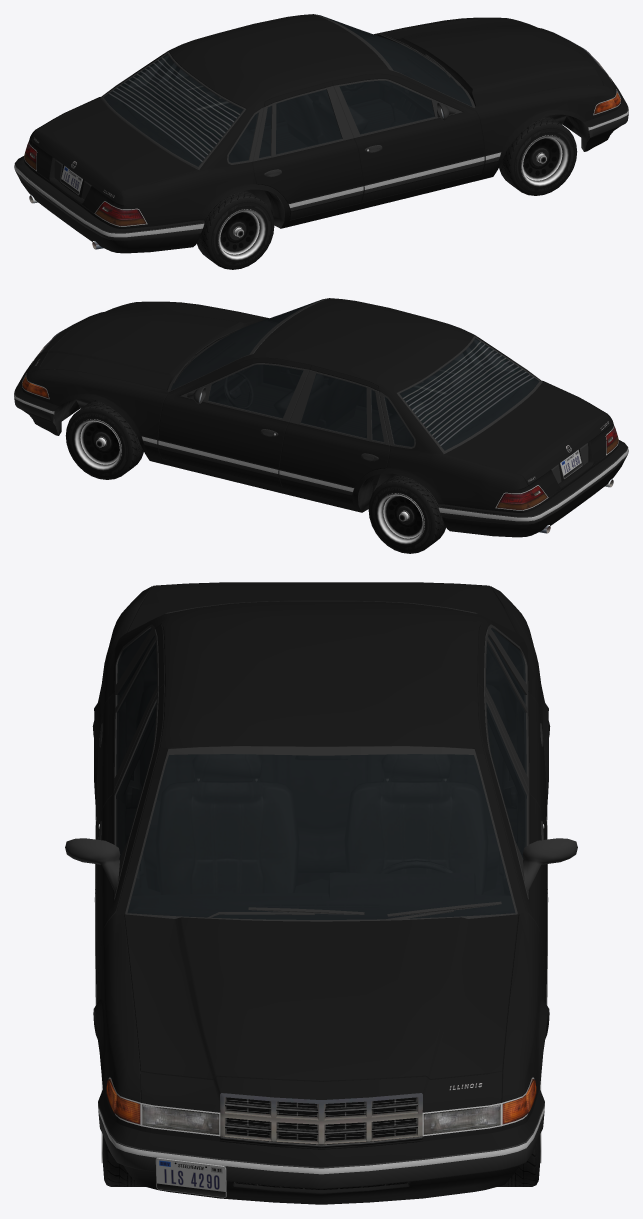
The picture shows the model from 3 angles, top to bottom: view 1: azimuth 30°, elevation 25°; view 2: azimuth 150°, elevation 25°; view 3: azimuth 270°, elevation 25°; orthographic projection. The views are drawn at different scales.
Visible parts, largest first — view 1: Illinois90_Body_Illinois90_Bodymat_0, Illinois90_Interior_UCB_Interiors_2_0, Illinois90_Hood_Illinois90_Bodymat_0, Illinois90_Trunkdoor_Illinois90_Bodymat_0, Illinois90_Bottom_UCB_BOTTOM_0, Illinois90_Rear_Glass_UCB_Lights_and_Glass_Transperent_0, Illinois90_Body_Glass_UCB_Lights_and_Glass_Transperent_0, Illinois90_WheelStock_RR_RB1c_Tire_1k_0, Illinois90_WheelStock_FR_RB1c_Tire_1k_0, Illinois90_Glass_Passenger_UCB_Lights_and_Glass_Transperent_, Illinois90_Bumper_rear_Illinois90_Bodymat_0, Illinois90_Windshield_UCB_Lights_and_Glass_Transperent_0 (+7 smaller); view 2: Illinois90_Body_Illinois90_Bodymat_0, Illinois90_Interior_UCB_Interiors_2_0, Illinois90_Hood_Illinois90_Bodymat_0, Illinois90_Trunkdoor_Illinois90_Bodymat_0, Illinois90_Bottom_UCB_BOTTOM_0, Illinois90_Rear_Glass_UCB_Lights_and_Glass_Transperent_0, Illinois90_Body_Glass_UCB_Lights_and_Glass_Transperent_0, Illinois90_WheelStock_RL_RB1c_Tire_1k_0, Illinois90_WheelStock_FL_RB1c_Tire_1k_0, Illinois90_glass_Driver_UCB_Lights_and_Glass_Transperent_0, Illinois90_Bumper_rear_Illinois90_Bodymat_0, Illinois90_Windshield_UCB_Lights_and_Glass_Transperent_0 (+7 smaller); view 3: Illinois90_Body_Illinois90_Bodymat_0, Illinois90_Interior_UCB_Interiors_2_0, Illinois90_Hood_Illinois90_Bodymat_0, Illinois90_Windshield_UCB_Lights_and_Glass_Transperent_0, Illinois90_Bottom_UCB_BOTTOM_0, Illinois90_Bumper_front_Illinois90_Bodymat_0, Illinois90_Bumper_front_inner_UCB_BOTTOM_0, Illinois90_Trunkdoor_Illinois90_Bodymat_0, Illinois90_Body_Glass_UCB_Lights_and_Glass_Transperent_0, Illinois90_Headlights_Glass_UCB_Lights_and_Glass_Transperent, Illinois90_Headlights_UCB_Lights_and_Glass_0, Illinois90_glass_Driver_UCB_Lights_and_Glass_Transperent_0 (+5 smaller).
Boxes of the visible parts, x1,y1,x2,y2 form: Illinois90_Body_Illinois90_Bodymat_0: (24, 14, 621, 228); Illinois90_Interior_UCB_Interiors_2_0: (104, 19, 471, 201); Illinois90_Hood_Illinois90_Bodymat_0: (377, 18, 603, 106); Illinois90_Trunkdoor_Illinois90_Bodymat_0: (32, 98, 197, 213); Illinois90_Bottom_UCB_BOTTOM_0: (24, 14, 620, 249); Illinois90_Rear_Glass_UCB_Lights_and_Glass_Transperent_0: (103, 54, 243, 166); Illinois90_Body_Glass_UCB_Lights_and_Glass_Transperent_0: (129, 56, 342, 162); Illinois90_WheelStock_RR_RB1c_Tire_1k_0: (197, 190, 274, 269); Illinois90_WheelStock_FR_RB1c_Tire_1k_0: (499, 116, 577, 195); Illinois90_Glass_Passenger_UCB_Lights_and_Glass_Transperent_: (339, 80, 434, 134); Illinois90_Bumper_rear_Illinois90_Bodymat_0: (15, 156, 204, 253); Illinois90_Windshield_UCB_Lights_and_Glass_Transperent_0: (319, 15, 472, 106); Illinois90_Body_Illinois90_Bodymat_0: (21, 298, 618, 512); Illinois90_Interior_UCB_Interiors_2_0: (171, 303, 538, 494); Illinois90_Hood_Illinois90_Bodymat_0: (39, 302, 265, 390); Illinois90_Trunkdoor_Illinois90_Bodymat_0: (445, 382, 610, 497); Illinois90_Bottom_UCB_BOTTOM_0: (22, 298, 618, 533); Illinois90_Rear_Glass_UCB_Lights_and_Glass_Transperent_0: (399, 338, 539, 450); Illinois90_Body_Glass_UCB_Lights_and_Glass_Transperent_0: (300, 340, 513, 446); Illinois90_WheelStock_RL_RB1c_Tire_1k_0: (368, 474, 445, 553); Illinois90_WheelStock_FL_RB1c_Tire_1k_0: (65, 400, 143, 479); Illinois90_glass_Driver_UCB_Lights_and_Glass_Transperent_0: (208, 364, 303, 418); Illinois90_Bumper_rear_Illinois90_Bodymat_0: (438, 440, 627, 537); Illinois90_Windshield_UCB_Lights_and_Glass_Transperent_0: (170, 299, 323, 390); Illinois90_Body_Illinois90_Bodymat_0: (94, 586, 548, 1141); Illinois90_Interior_UCB_Interiors_2_0: (118, 632, 524, 919); Illinois90_Hood_Illinois90_Bodymat_0: (124, 914, 518, 1081); Illinois90_Windshield_UCB_Lights_and_Glass_Transperent_0: (127, 754, 515, 919); Illinois90_Bottom_UCB_BOTTOM_0: (65, 600, 577, 1149); Illinois90_Bumper_front_Illinois90_Bodymat_0: (98, 1089, 544, 1204); Illinois90_Bumper_front_inner_UCB_BOTTOM_0: (98, 1102, 544, 1189); Illinois90_Trunkdoor_Illinois90_Bodymat_0: (127, 582, 515, 632); Illinois90_Body_Glass_UCB_Lights_and_Glass_Transperent_0: (116, 628, 526, 773); Illinois90_Headlights_Glass_UCB_Lights_and_Glass_Transperent: (106, 1079, 536, 1134); Illinois90_Headlights_UCB_Lights_and_Glass_0: (143, 1105, 499, 1134); Illinois90_glass_Driver_UCB_Lights_and_Glass_Transperent_0: (486, 702, 526, 859).
Bounding box in the file's own units: 5.17 × 1.43 × 2.09.
8 materials, 7 textured.
